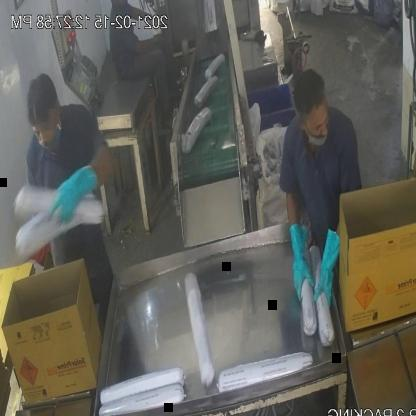glove: (44, 143, 104, 237), (312, 215, 346, 313), (284, 210, 317, 310)
